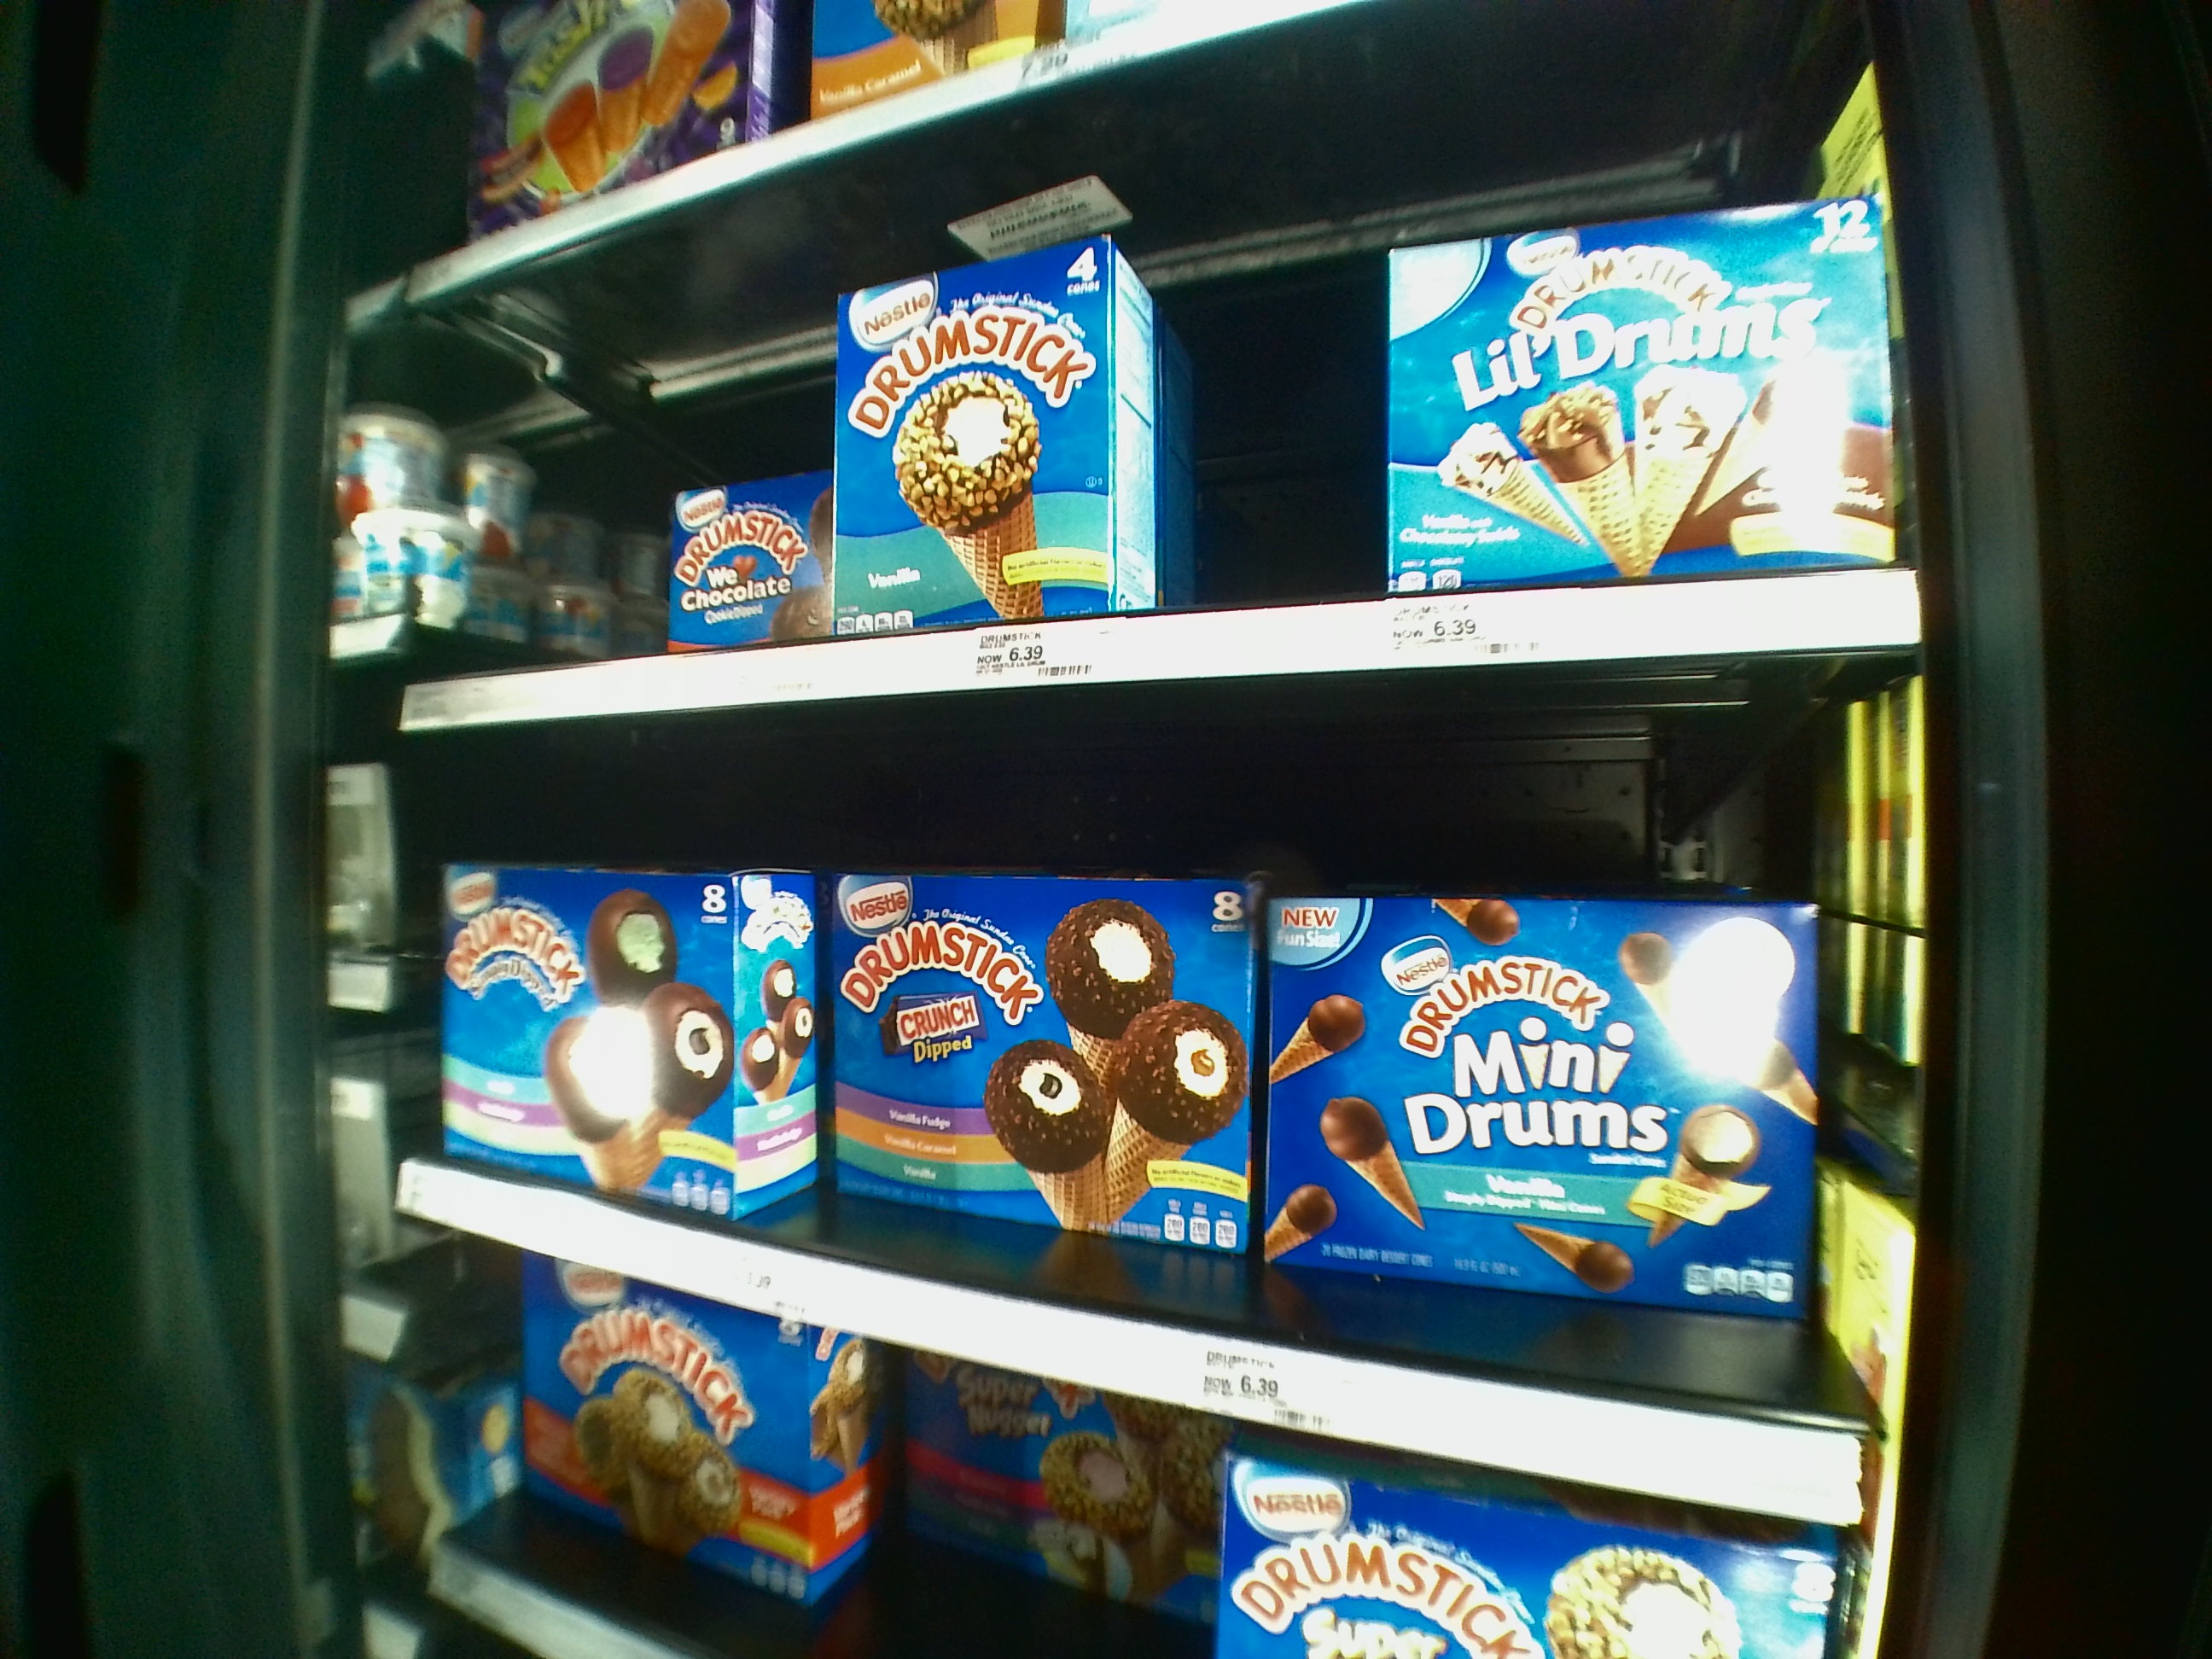shelf: (395, 680, 1935, 1314), (397, 134, 1944, 695)
